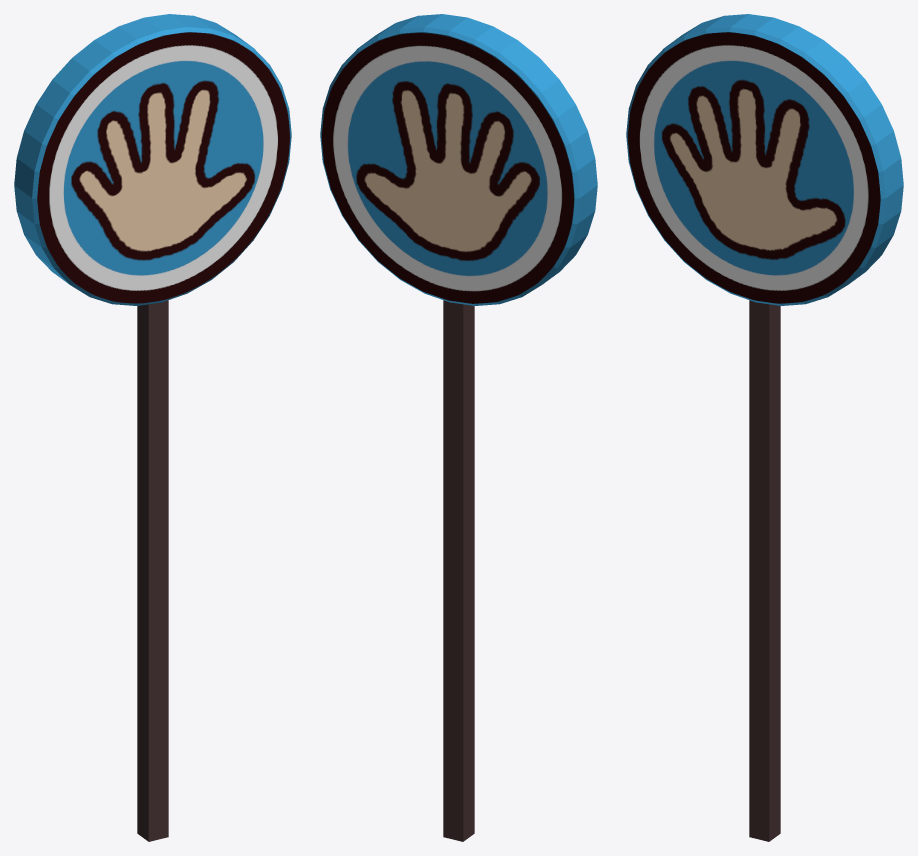
3 views of the same model, side by side, from view 1: azimuth 30°, elevation 25°; view 2: azimuth 150°, elevation 25°; view 3: azimuth 330°, elevation 25° (orthographic).
Parts seen in each view (by area): view 1: 円柱, Cube; view 2: 円柱, Cube; view 3: 円柱, Cube.
Boxes of the visible parts, <box> form: 円柱: <box>14,14,291,305</box>; Cube: <box>137,300,168,841</box>; 円柱: <box>320,14,597,305</box>; Cube: <box>443,300,474,841</box>; 円柱: <box>626,14,903,305</box>; Cube: <box>749,300,780,841</box>.
Bounding box in the file's own units: 3.66 × 10.92 × 0.5259.
Materials: 2 (1 with a texture image).
